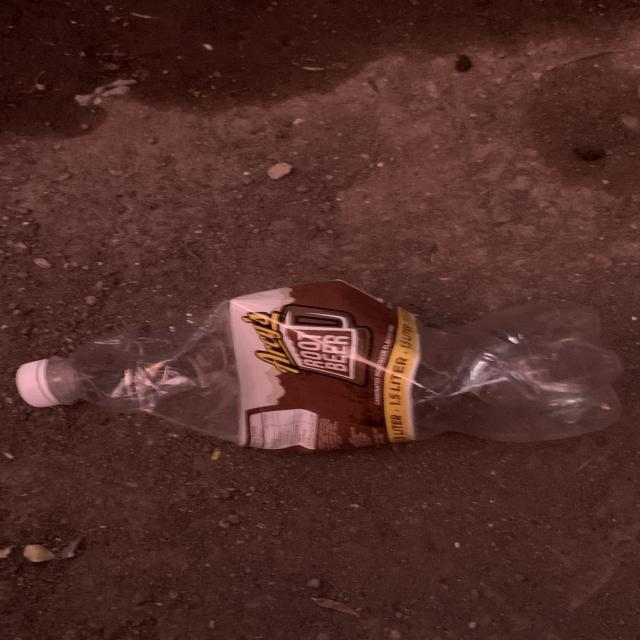Bottle: (16, 280, 622, 450)
